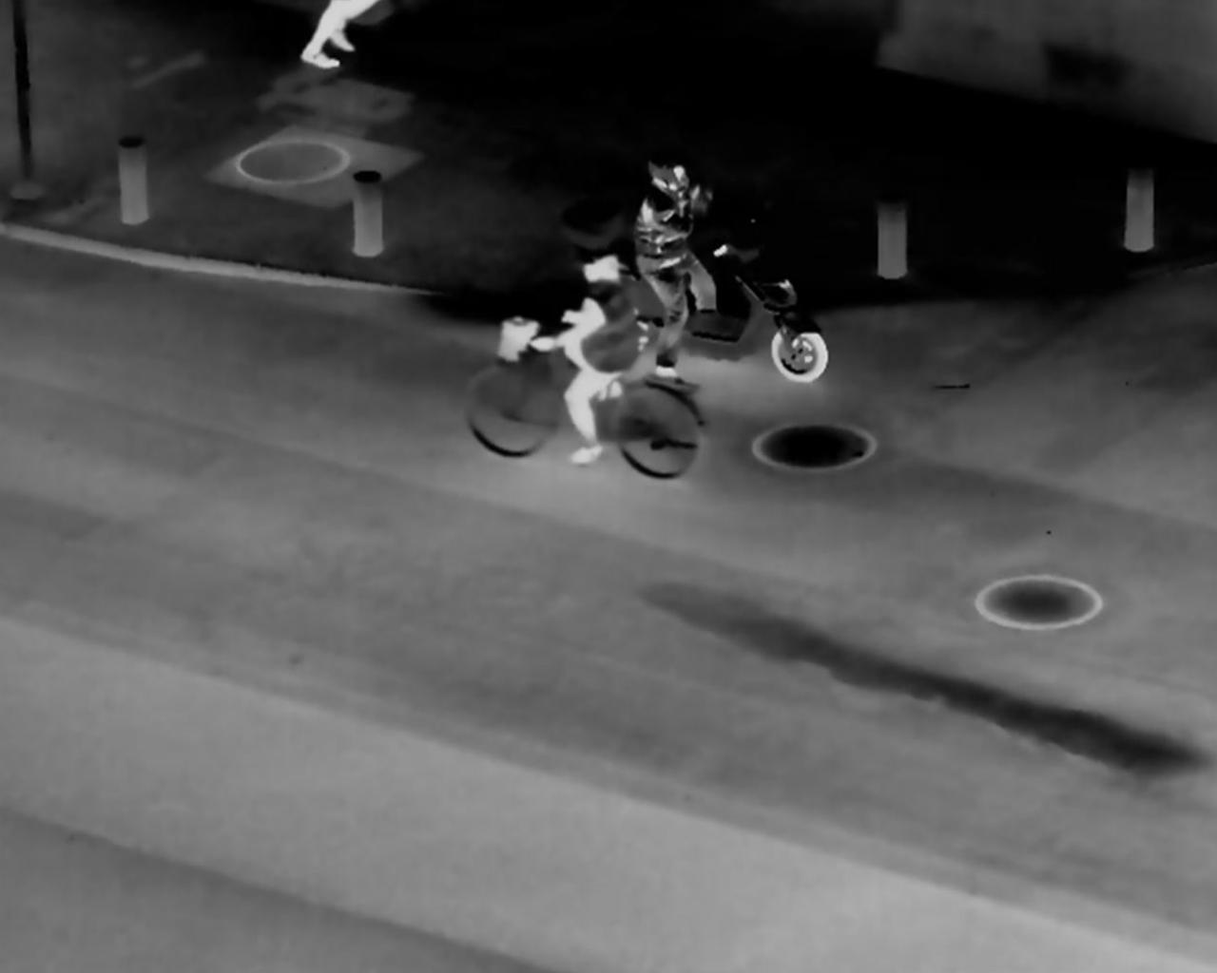person: (629, 148, 717, 372), (555, 250, 627, 453)
